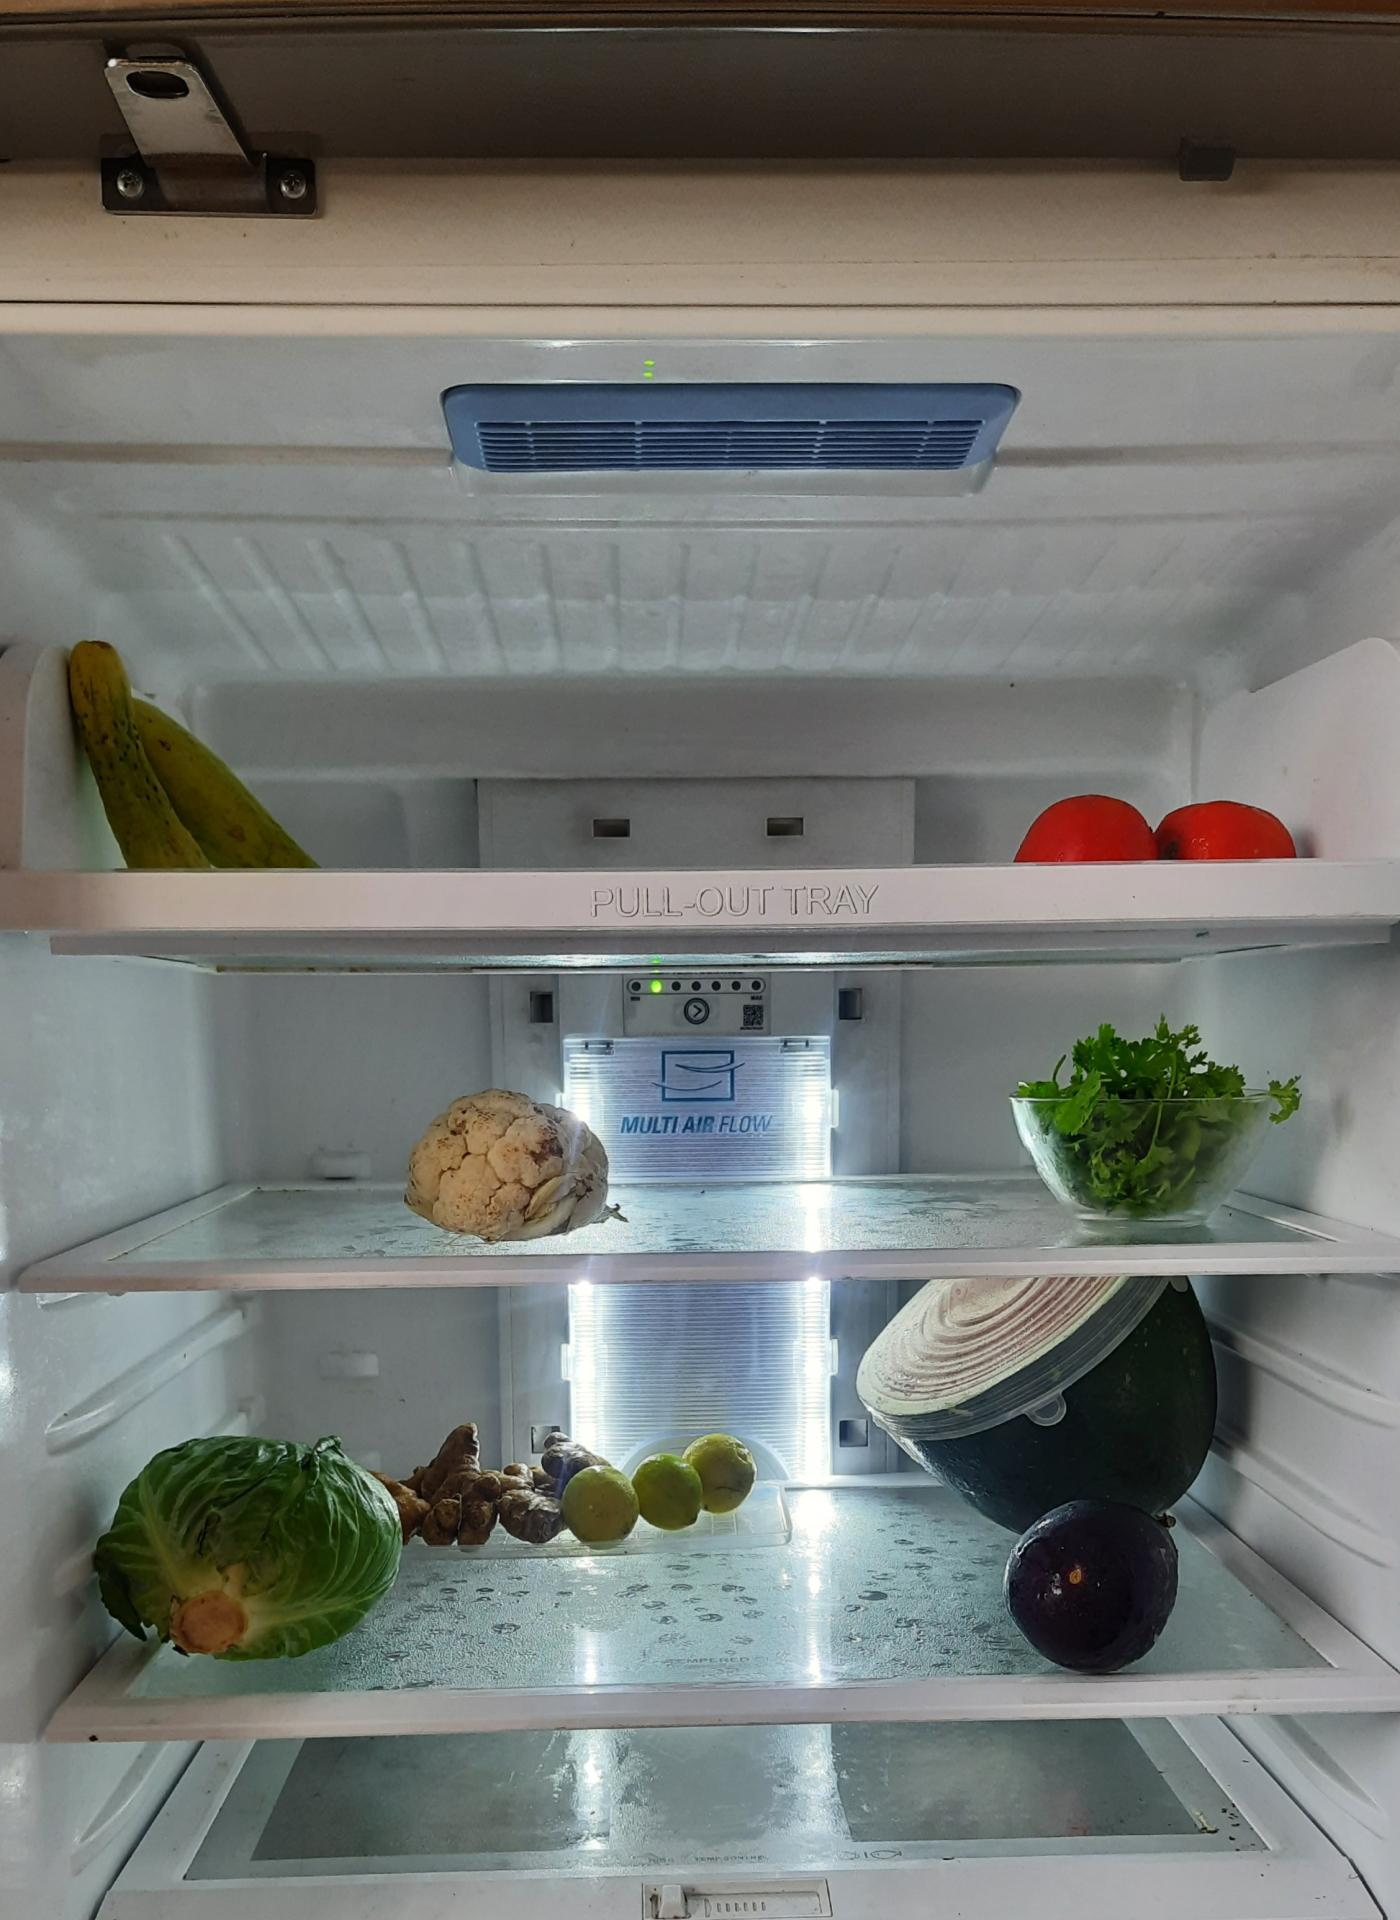brinjal: (994, 1506, 1237, 1670)
cabbage: (103, 1447, 410, 1659)
cauliflower: (398, 1103, 622, 1245)
coriander: (1020, 1011, 1291, 1231)
cucumber: (63, 617, 319, 887)
ginger: (410, 1416, 552, 1561)
lemon: (550, 1436, 784, 1562)
tomato: (1029, 783, 1312, 866)
watermelon: (848, 1275, 1233, 1486)
